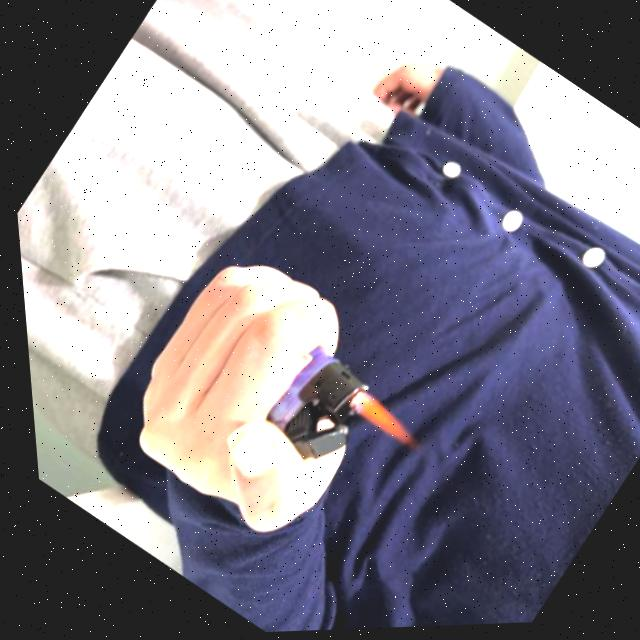Fire: (335, 381, 421, 454)
